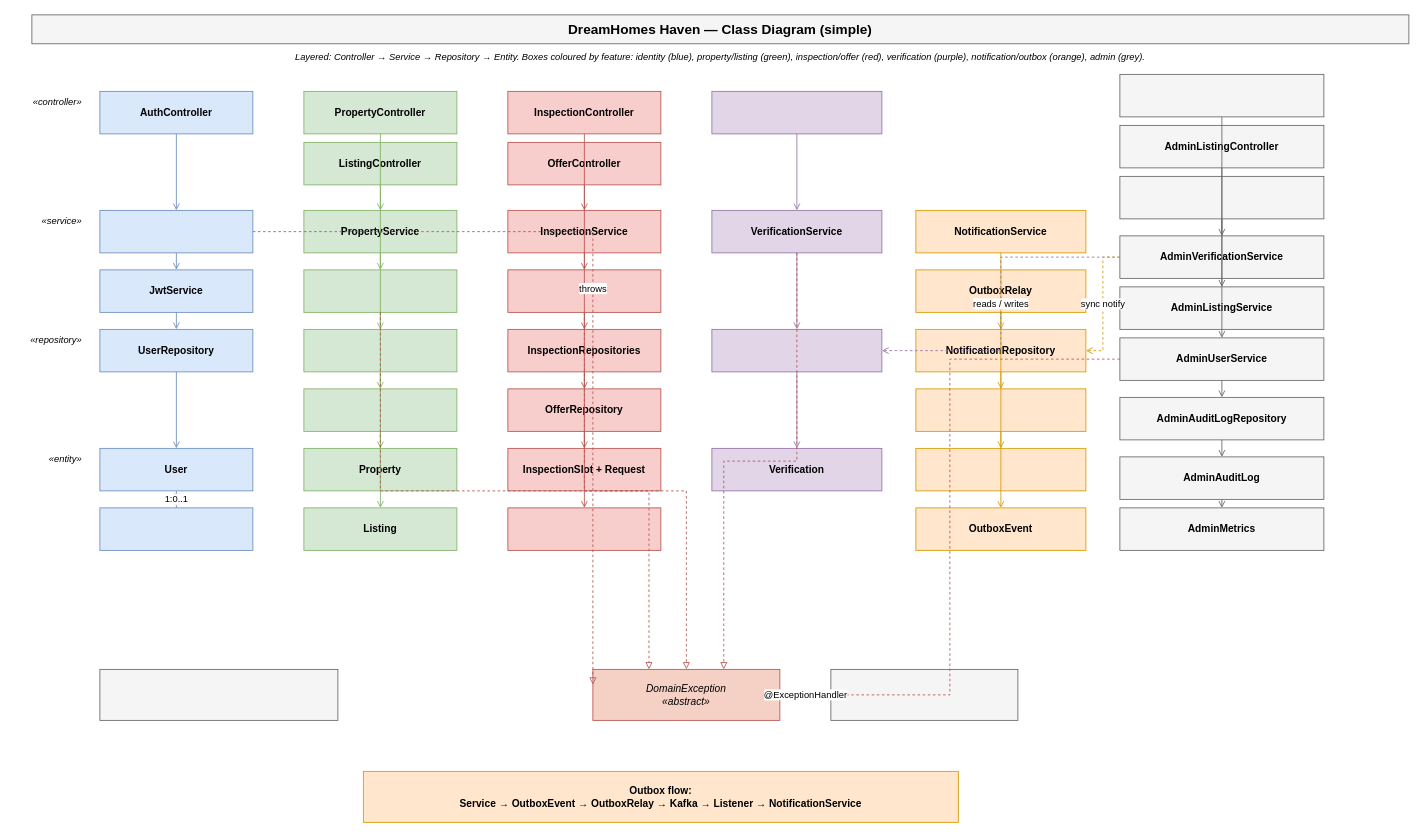
This 1424x837 diagram has some shape labels left out. The box of each missing label's shape, as (x1, y1, x2, y2) in pixels:
AdminUserController: (1119, 176, 1324, 219)
AdminVerificationController: (1119, 74, 1324, 117)
AgentProfile: (99, 507, 253, 550)
AuthService: (99, 210, 253, 253)
GlobalExceptionHandler: (830, 669, 1018, 720)
ListingRepository: (303, 388, 457, 431)
ListingService: (303, 269, 457, 312)
Notification: (915, 448, 1086, 491)
Offer: (507, 507, 661, 550)
OfferService: (507, 269, 661, 312)
OutboxEventRepository: (915, 388, 1086, 431)
PropertyRepository: (303, 329, 457, 372)
SecurityConfig + JwtAuthenticationFilter: (99, 669, 338, 720)
VerificationController: (711, 91, 882, 134)
VerificationRepository: (711, 329, 882, 372)
